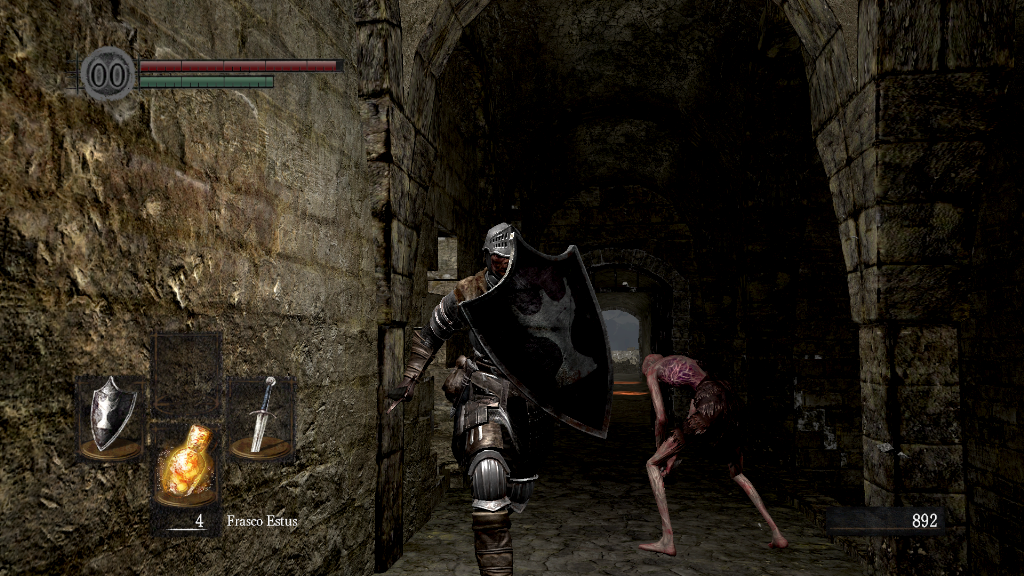health: (138, 58, 343, 71)
hollow: (637, 350, 789, 557)
humanity: (80, 45, 136, 102)
player: (387, 222, 615, 576)
souls: (825, 506, 945, 536)
stamina: (138, 74, 274, 88)
